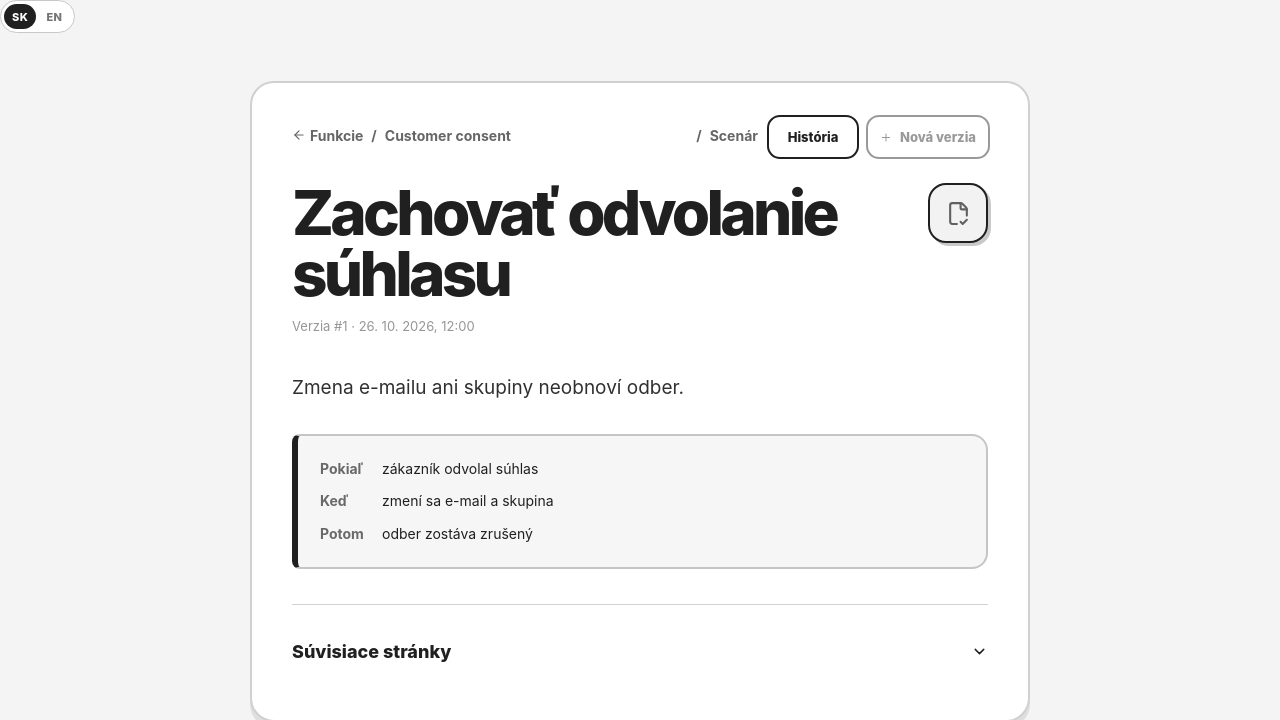
Test: switches source and Slovak prose in the same reader and exact historical revision
This screenshot has width=1280, height=720.
Expected: the heading "Zachovať odvolanie súhlasu" is shown, x1=292 y1=183 x2=913 y2=304
Expected: the text "Zmena e-mailu ani skupiny neobnoví odber." is shown, x1=292 y1=376 x2=684 y2=398
What coordinates should you click on to do the following:
click the button "História"
I would click on:
 (813, 137)
Its box is x1=767 y1=115 x2=859 y2=159.
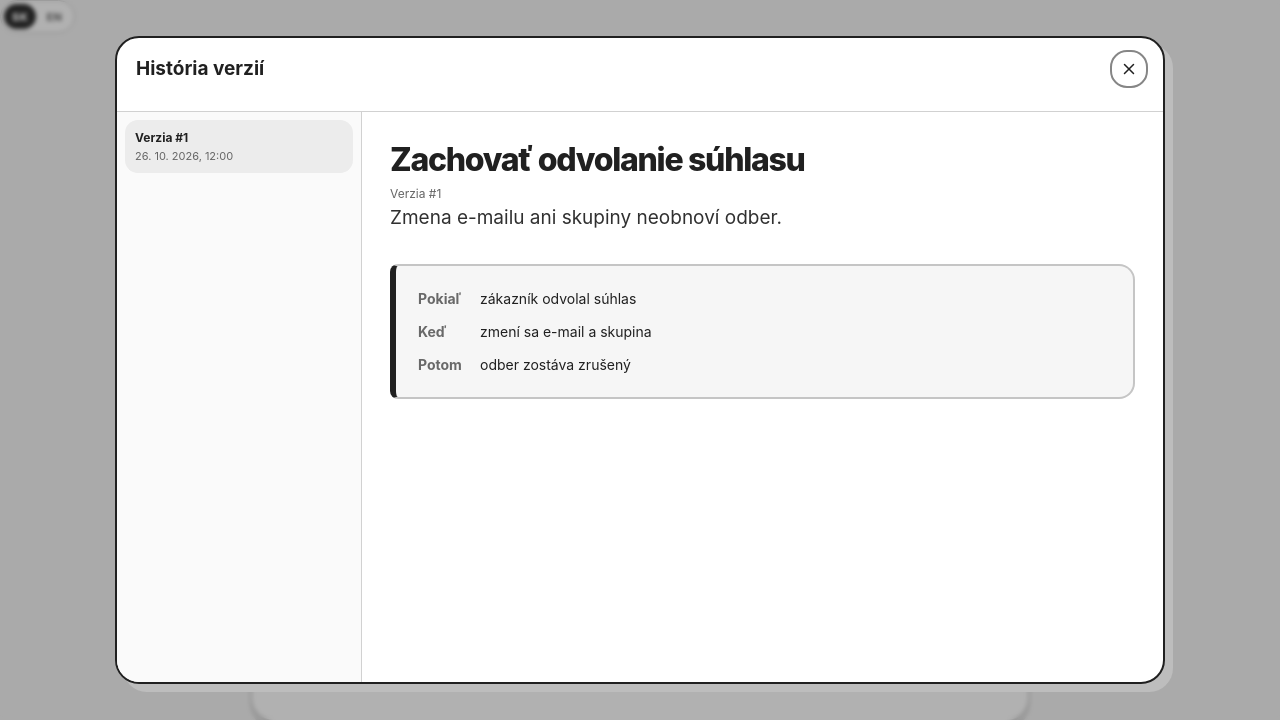
What coordinates should you click on to do the following:
click the button named "Zavrieť"
I would click on:
 (1129, 69)
Its box is x1=1114 y1=54 x2=1144 y2=84.
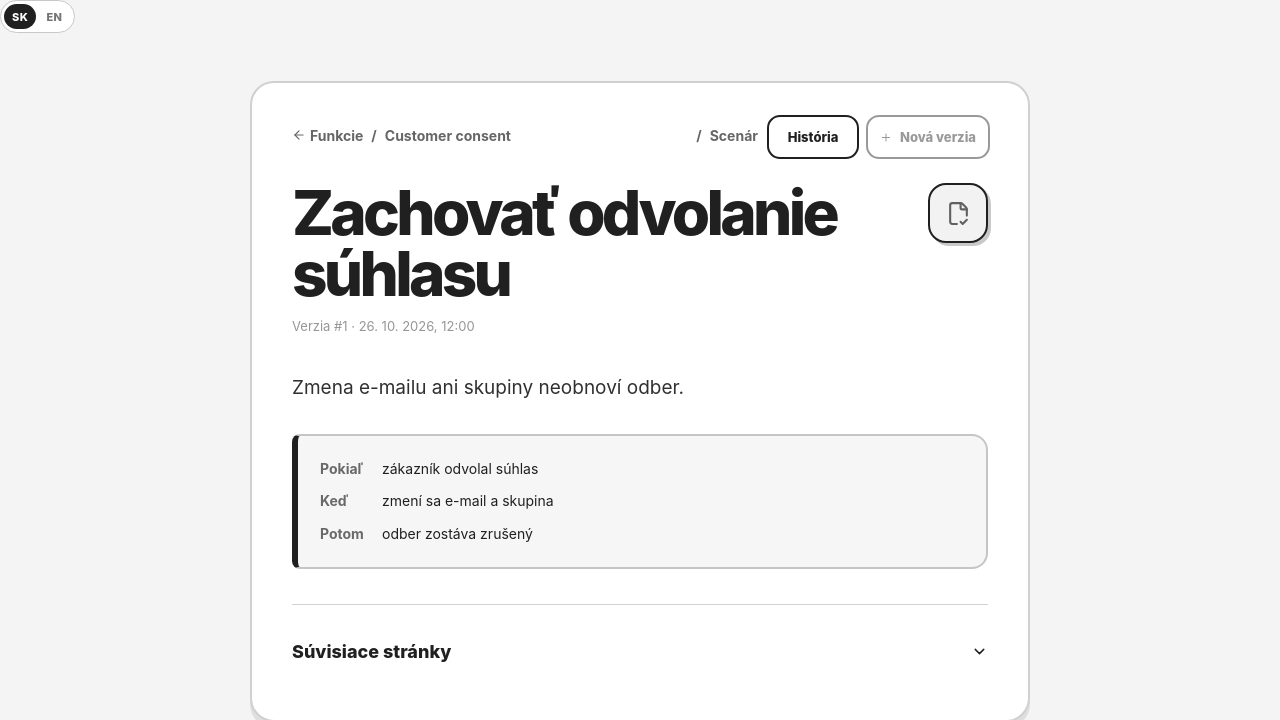
What coordinates should you click on to do the following:
click the switch named "Jazyk"
I would click on:
 (37, 16)
Its box is x1=0 y1=0 x2=74 y2=33.
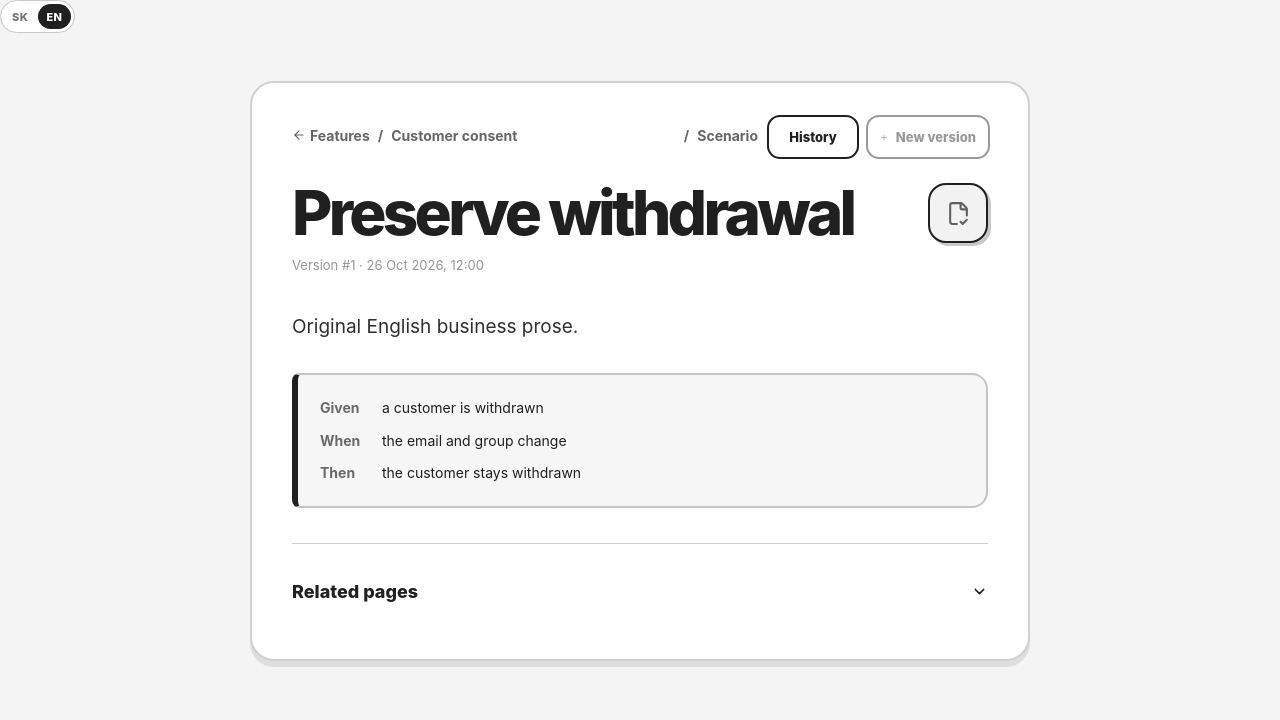
Expected: the button "New version" is disabled, x1=866 y1=115 x2=990 y2=159
Result: the heading "Preserve withdrawal" is shown at x1=292 y1=183 x2=913 y2=244
Result: the text "Original English business prose." is shown at x1=292 y1=315 x2=578 y2=338
